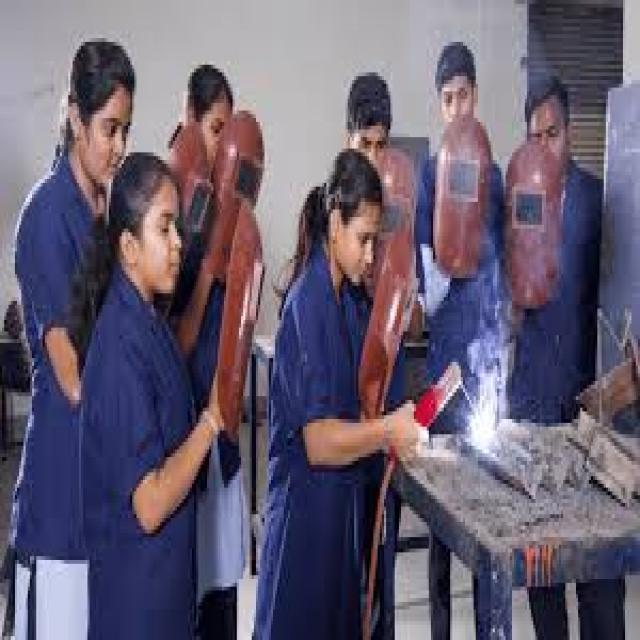without_helmet: (66, 29, 134, 188), (110, 149, 180, 301), (310, 148, 380, 292), (522, 61, 582, 186), (434, 35, 490, 131), (329, 74, 392, 157), (185, 66, 234, 167)
